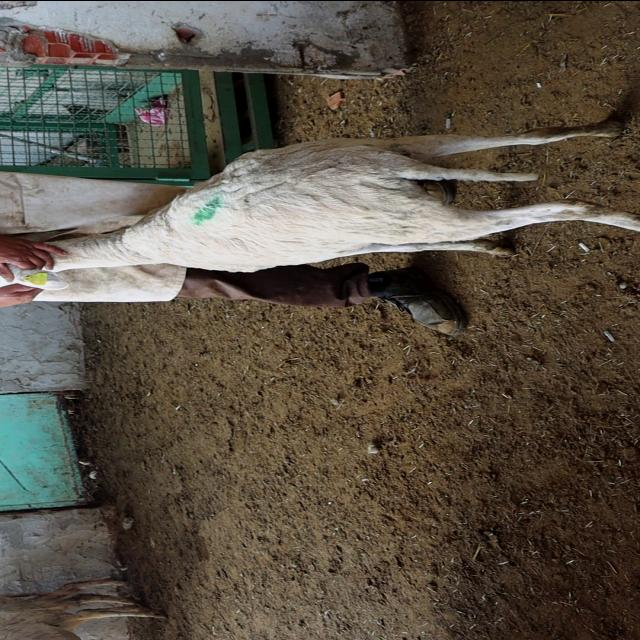Score_2: (3, 120, 639, 289)
